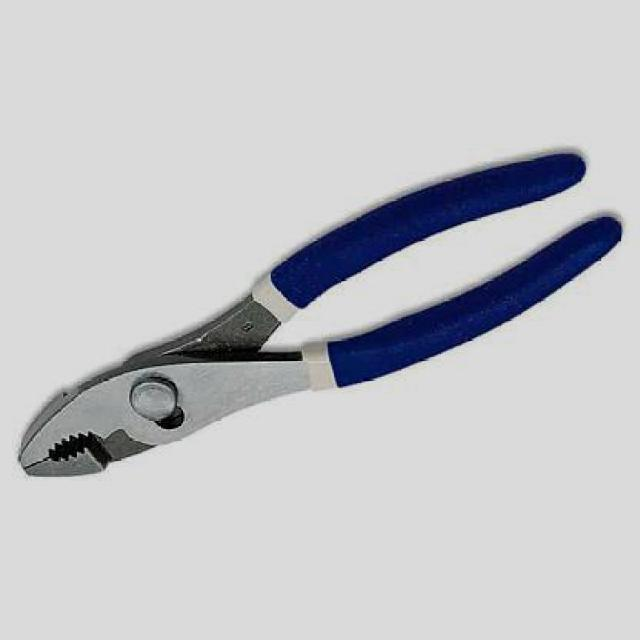pliers: (18, 150, 627, 484)
